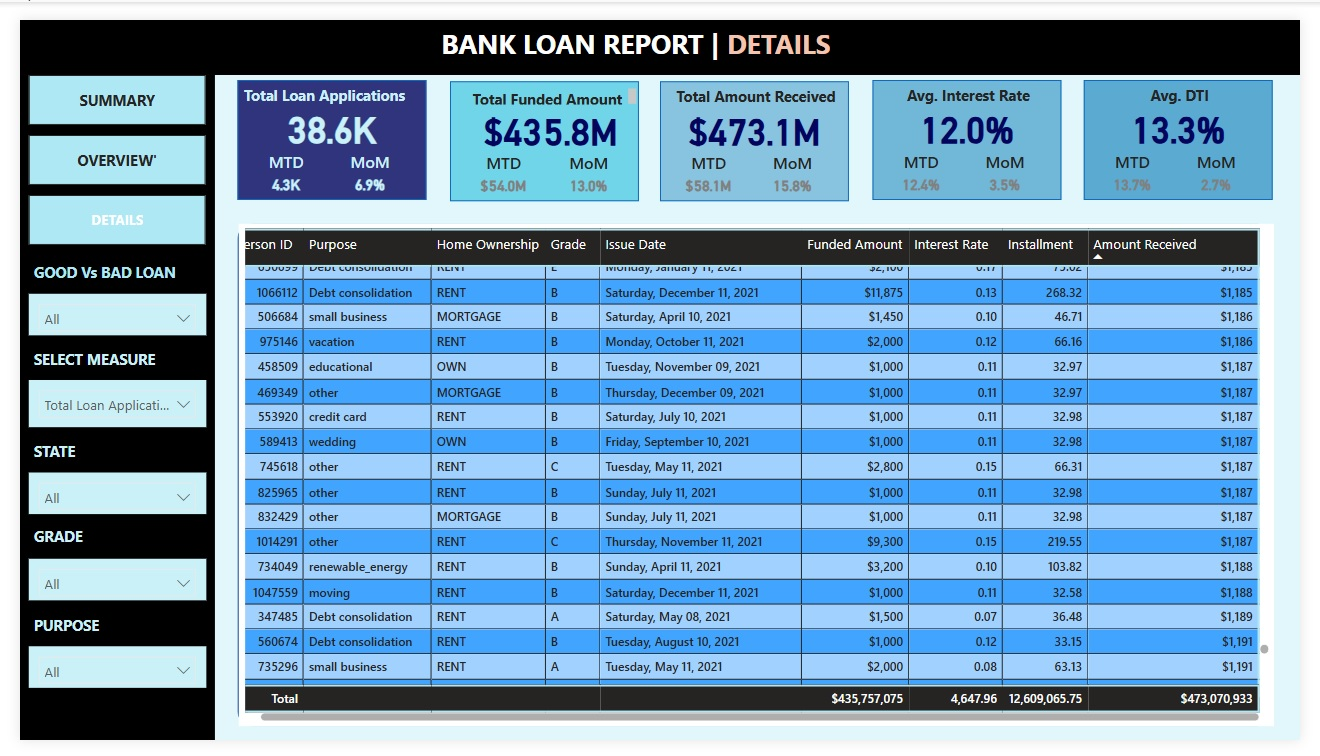

The page's visual inventory and layout, read from the dashboard file:
{"tool":"powerbi","page":{"name":"DETAILS","canvas":[1280,720],"ordinal":2},"visuals":[{"type":"shape","box":[217.8,59.5,189.2,120.2],"z":0,"group":"g1"},{"type":"shape","box":[852.1,59.5,189.2,120.2],"z":0,"group":"g4"},{"type":"shape","box":[1063.9,59.5,189.2,120.2],"z":0,"group":"g5"},{"type":"shape","box":[429.6,60.7,189.2,120.2],"z":0,"group":"g2"},{"type":"shape","box":[640.3,60.7,189.2,120.2],"z":0,"group":"g3"},{"type":"shape","box":[217.5,203.8,1035,502.5],"z":0},{"type":"shape","box":[0,0,1280.3,55],"z":1000},{"type":"card","fields":{"Values":["Bank_Loan_Data.Total Loan Applications"]},"box":[217.8,84.5,189.2,45.2],"z":1000,"group":"g1"},{"type":"card","fields":{"Values":["Bank_Loan_Data.Avg Interest Rate"]},"box":[852.1,84.5,189.2,45.2],"z":1000,"group":"g4"},{"type":"card","fields":{"Values":["Bank_Loan_Data.Avg DTI"]},"box":[1063.9,84.5,189.2,45.2],"z":1000,"group":"g5"},{"type":"card","fields":{"Values":["Bank_Loan_Data.Total Funded Amount"]},"box":[435.6,85.7,189.2,45.2],"z":1000,"group":"g2"},{"type":"card","fields":{"Values":["Bank_Loan_Data.Total Amount Received"]},"box":[640.3,85.7,189.2,45.2],"z":1000,"group":"g3"},{"type":"shape","box":[0,55.1,195,665.9],"z":2000},{"type":"textbox","box":[219,59.5,189.2,32.1],"z":2000,"group":"g1"},{"type":"textbox","box":[853.3,59.5,189.2,32.1],"z":2000,"group":"g4"},{"type":"textbox","box":[1065.1,59.5,189.2,32.1],"z":2000,"group":"g5"},{"type":"textbox","box":[641.5,60.7,189.2,32.1],"z":2000,"group":"g3"},{"type":"textbox","title":"Total Funded Amount","box":[447.3,63,173.8,26.2],"z":2000,"group":"g2"},{"type":"textbox","box":[416.8,0,445.5,56.3],"z":3000},{"type":"card","title":"MTD","fields":{"Values":["Bank_Loan_Data.MTD Loan Applications"]},"box":[228.5,129.7,75,50],"z":3000,"group":"g1"},{"type":"card","title":"MTD","fields":{"Values":["Bank_Loan_Data.MTD Avg Interest Rate"]},"box":[862.8,129.7,75,50],"z":3000,"group":"g4"},{"type":"card","title":"MTD","fields":{"Values":["Bank_Loan_Data.MTD Avg DTI"]},"box":[1074.6,129.7,75,50],"z":3000,"group":"g5"},{"type":"card","title":"MTD","fields":{"Values":["Bank_Loan_Data.MTD Funded Amount"]},"box":[446.3,130.9,75,50],"z":3000,"group":"g2"},{"type":"card","title":"MTD","fields":{"Values":["Bank_Loan_Data.MTD Amount Received"]},"box":[651,130.9,75,50],"z":3000,"group":"g3"},{"type":"group","id":"g1","title":"Group 1","box":[217.8,59.5,190.4,120.2],"z":4000},{"type":"card","title":"MoM","fields":{"Values":["Bank_Loan_Data.MoM Loan Applications"]},"box":[313,129.7,75,50],"z":4000,"group":"g1"},{"type":"card","title":"MoM","fields":{"Values":["Bank_Loan_Data.MoM Avg Interest Rate"]},"box":[947.3,129.7,75,50],"z":4000,"group":"g4"},{"type":"card","title":"MoM","fields":{"Values":["Bank_Loan_Data.MoM Avg DTI"]},"box":[1159.1,129.7,75,50],"z":4000,"group":"g5"},{"type":"card","title":"MoM","fields":{"Values":["Bank_Loan_Data.MoM Total Funded Amount"]},"box":[530.8,130.9,75,50],"z":4000,"group":"g2"},{"type":"card","title":"MoM","fields":{"Values":["Bank_Loan_Data.MoM Total Amount Received"]},"box":[735.5,130.9,75,50],"z":4000,"group":"g3"},{"type":"group","id":"g2","title":"Group 1","box":[429.6,60.7,195.2,120.2],"z":5000},{"type":"group","id":"g3","title":"Group 1","box":[640.3,60.7,190.4,120.2],"z":6000},{"type":"group","id":"g4","title":"Group 1","box":[852.1,59.5,190.4,120.2],"z":7000},{"type":"group","id":"g5","title":"Group 1","box":[1063.9,59.5,190.4,120.2],"z":8000},{"type":"slicer","fields":{"Values":["Bank_Loan_Data.address_state"]},"box":[8.8,452.5,177.5,41.2],"z":11000},{"type":"textbox","box":[8.8,416.2,60,36.2],"z":12000},{"type":"slicer","fields":{"Values":["Bank_Loan_Data.grade"]},"box":[8.8,538.8,177.5,41.2],"z":13000},{"type":"slicer","fields":{"Values":["Bank_Loan_Data.purpose"]},"box":[8.8,626.2,177.5,41.2],"z":14000},{"type":"textbox","box":[8.8,501.2,76.2,37.5],"z":15000},{"type":"textbox","box":[8.8,590,88.8,36.2],"z":16000},{"type":"slicer","fields":{"Values":["Select Measure.Select Measure"]},"box":[8.8,360,177.5,47.5],"z":18000},{"type":"slicer","fields":{"Values":["Bank_Loan_Data.Good Vs Bad Loan"]},"box":[8.8,273.8,177.5,41.2],"z":27000},{"type":"textbox","box":[8.8,323.8,143.8,36.2],"z":28000},{"type":"textbox","box":[8.8,237.5,177.5,36.2],"z":29000},{"type":"tableEx","fields":{"Values":["Bank_Loan_Data.id","Bank_Loan_Data.purpose","Bank_Loan_Data.home_ownership","Bank_Loan_Data.grade","Bank_Loan_Data.issue_date","Bank_Loan_Data.Total Funded Amount","Sum(Bank_Loan_Data.int_rate)","Sum(Bank_Loan_Data.installment)","Bank_Loan_Data.Total Amount Received"]},"box":[218.8,203.8,1035,502.5],"z":29001},{"type":"pageNavigator","box":[8.8,55,177.5,170],"z":29002}]}

Visuals, with their boxes in screenshot pixels (x1, y1, x2, y2), scaled from the page's 1280x720 canvas onto the 1320x756 screenshot:
shape: (225,62,420,189)
shape: (879,62,1074,189)
shape: (1097,62,1292,189)
shape: (443,64,638,190)
shape: (660,64,855,190)
shape: (224,214,1292,742)
shape: (0,0,1319,58)
card - Bank_Loan_Data.Total Loan Applications: (225,89,420,136)
card - Bank_Loan_Data.Avg Interest Rate: (879,89,1074,136)
card - Bank_Loan_Data.Avg DTI: (1097,89,1292,136)
card - Bank_Loan_Data.Total Funded Amount: (449,90,644,137)
card - Bank_Loan_Data.Total Amount Received: (660,90,855,137)
shape: (0,58,201,755)
textbox: (226,62,421,96)
textbox: (880,62,1075,96)
textbox: (1098,62,1293,96)
textbox: (662,64,857,97)
"Total Funded Amount" textbox: (461,66,641,94)
textbox: (430,0,889,59)
"MTD" card: (236,136,313,189)
"MTD" card: (890,136,967,189)
"MTD" card: (1108,136,1186,189)
"MTD" card: (460,137,538,190)
"MTD" card: (671,137,749,190)
"Group 1" group: (225,62,421,189)
"MoM" card: (323,136,400,189)
"MoM" card: (977,136,1054,189)
"MoM" card: (1195,136,1273,189)
"MoM" card: (547,137,625,190)
"MoM" card: (758,137,836,190)
"Group 1" group: (443,64,644,190)
"Group 1" group: (660,64,857,190)
"Group 1" group: (879,62,1075,189)
"Group 1" group: (1097,62,1293,189)
slicer - Bank_Loan_Data.address_state: (9,475,192,518)
textbox: (9,437,71,475)
slicer - Bank_Loan_Data.grade: (9,566,192,609)
slicer - Bank_Loan_Data.purpose: (9,658,192,701)
textbox: (9,526,88,566)
textbox: (9,620,101,658)
slicer - Select Measure.Select Measure: (9,378,192,428)
slicer - Bank_Loan_Data.Good Vs Bad Loan: (9,287,192,331)
textbox: (9,340,157,378)
textbox: (9,249,192,287)
tableEx - Bank_Loan_Data.id x Bank_Loan_Data.purpose: (226,214,1293,742)
pageNavigator: (9,58,192,236)
